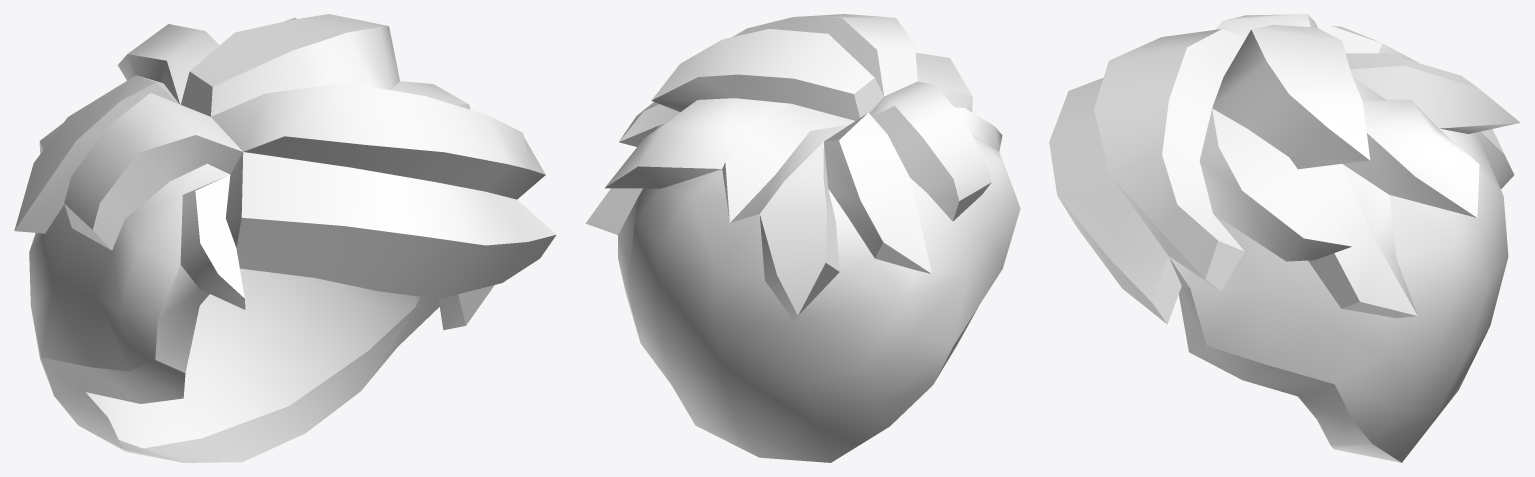
File: Male_Hairs_01_v3.fbx
3 renders of one model, left to right at view 1: azimuth 30°, elevation 25°; view 2: azimuth 150°, elevation 25°; view 3: azimuth 270°, elevation 25°, orthographic. The views are drawn at different scales.
Parts seen in each view (by area): view 1: Male_Hairs_01_v3; view 2: Male_Hairs_01_v3; view 3: Male_Hairs_01_v3.
Boxes of the visible parts, x1,y1,x2,y2 form: Male_Hairs_01_v3: [14, 14, 556, 462]; Male_Hairs_01_v3: [585, 14, 1020, 462]; Male_Hairs_01_v3: [1049, 14, 1520, 462].
Bounding box in the file's own units: 65.25 × 64.78 × 67.13.
